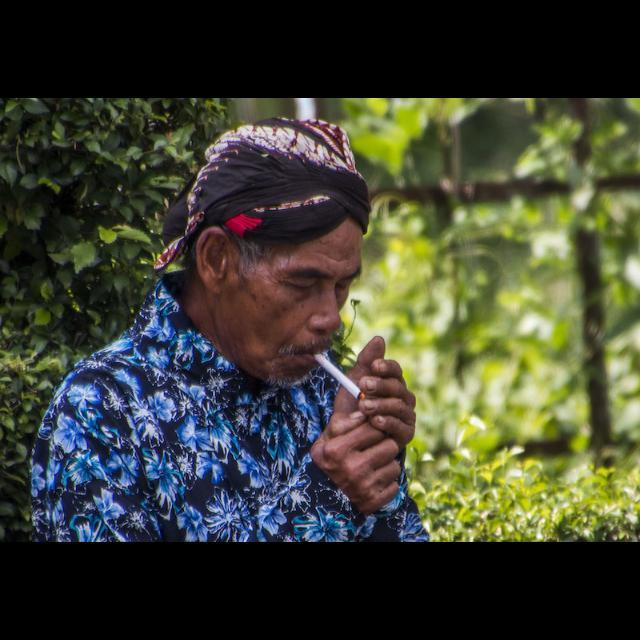rokok: (314, 352, 371, 406)
